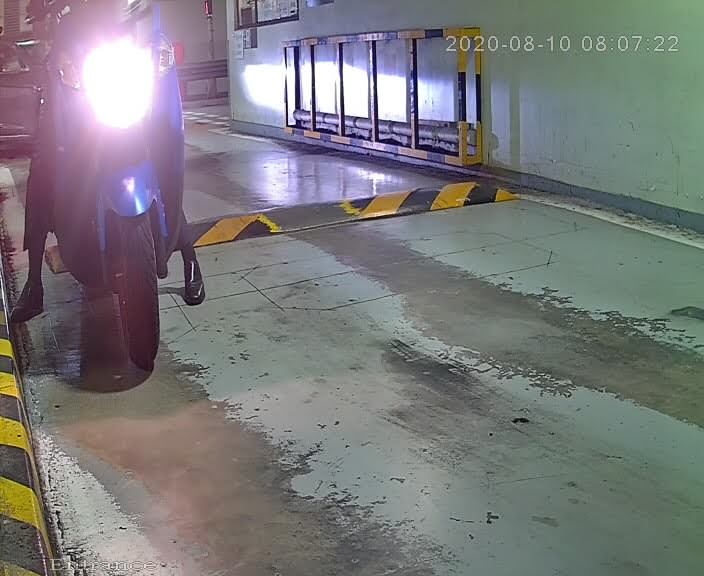motorcycle: (1, 1, 215, 395)
